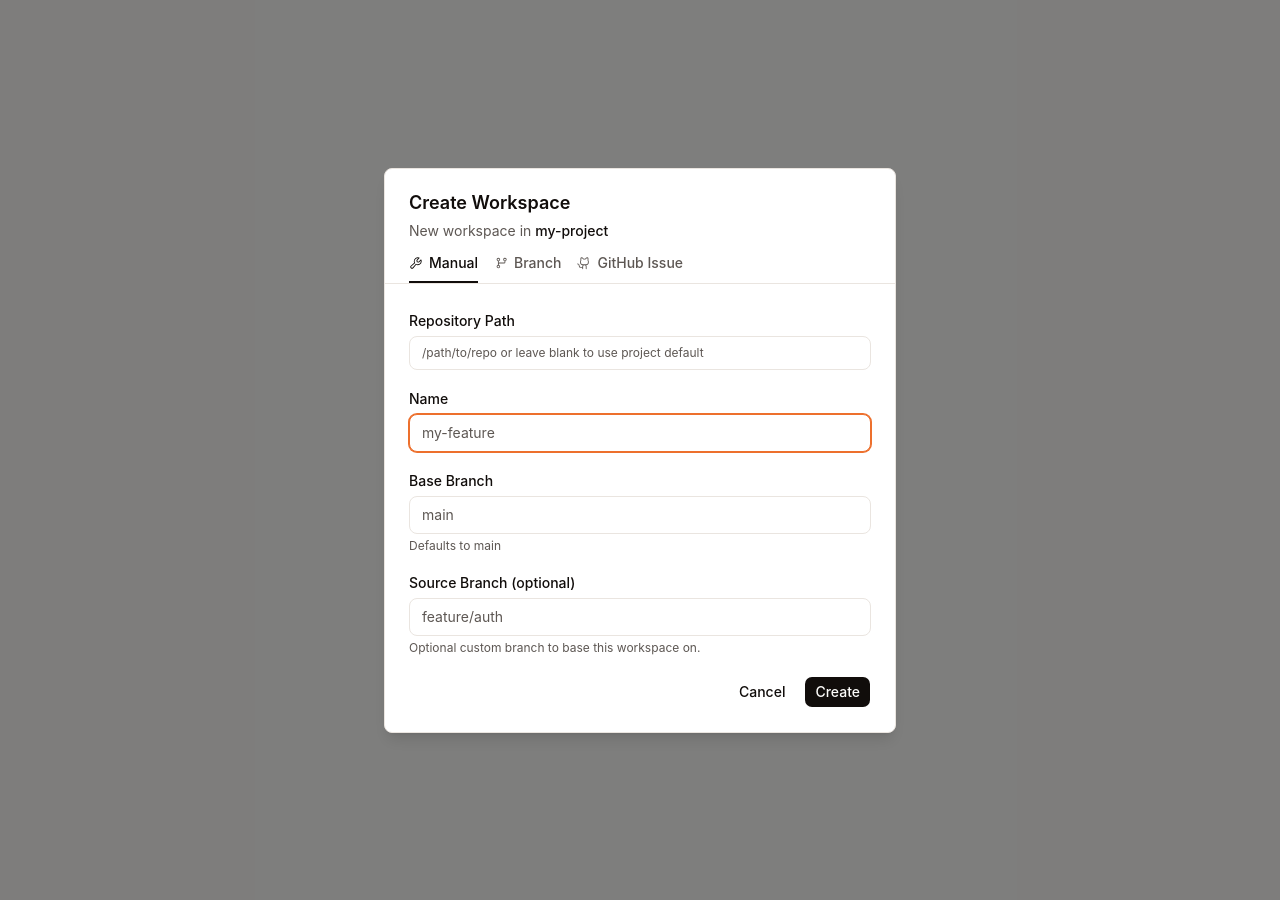
Test case: CreateWorkspaceDialog › clears the error message when the user starts typing in the name field
// Trigger the error
Click the button "Create": [838, 692] box [804,676,871,708]
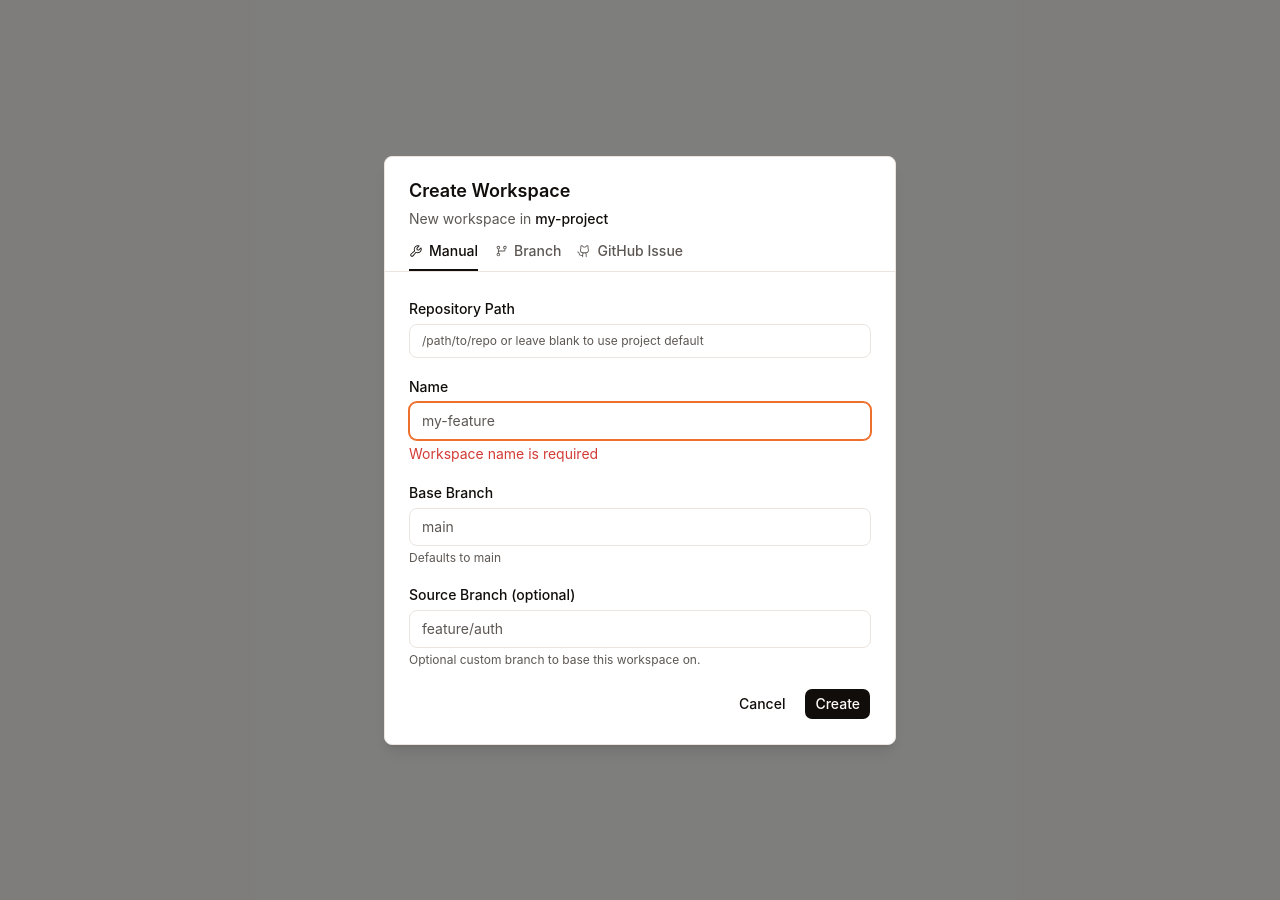
Check: the text "Workspace name is required" is shown, box [409,444,598,462]
// Start typing — error should disappear
In the field with placeholder "my-feature": [640, 420] box [409,402,871,440], type "my-workspace"
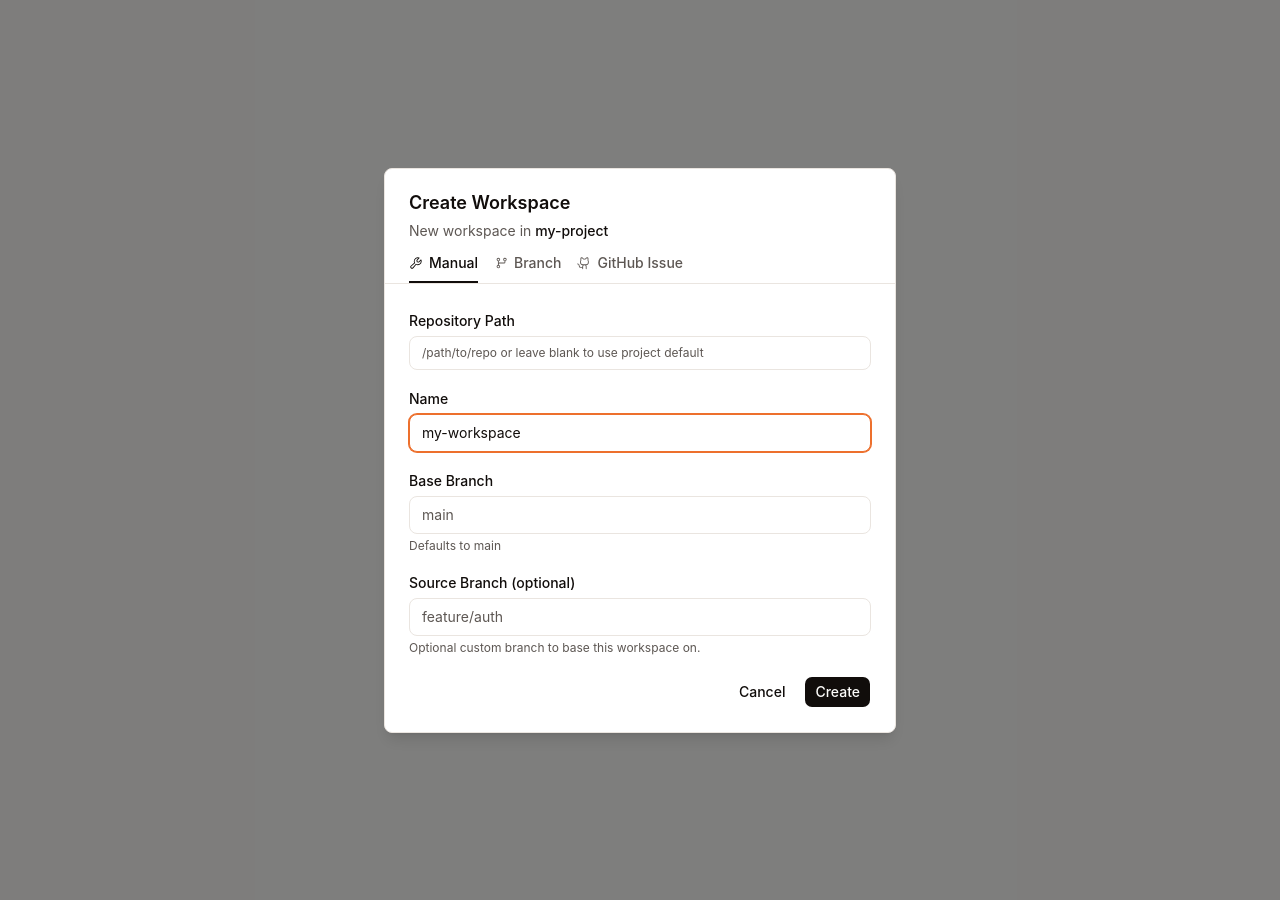
Check: the text "Workspace name is required" is gone
